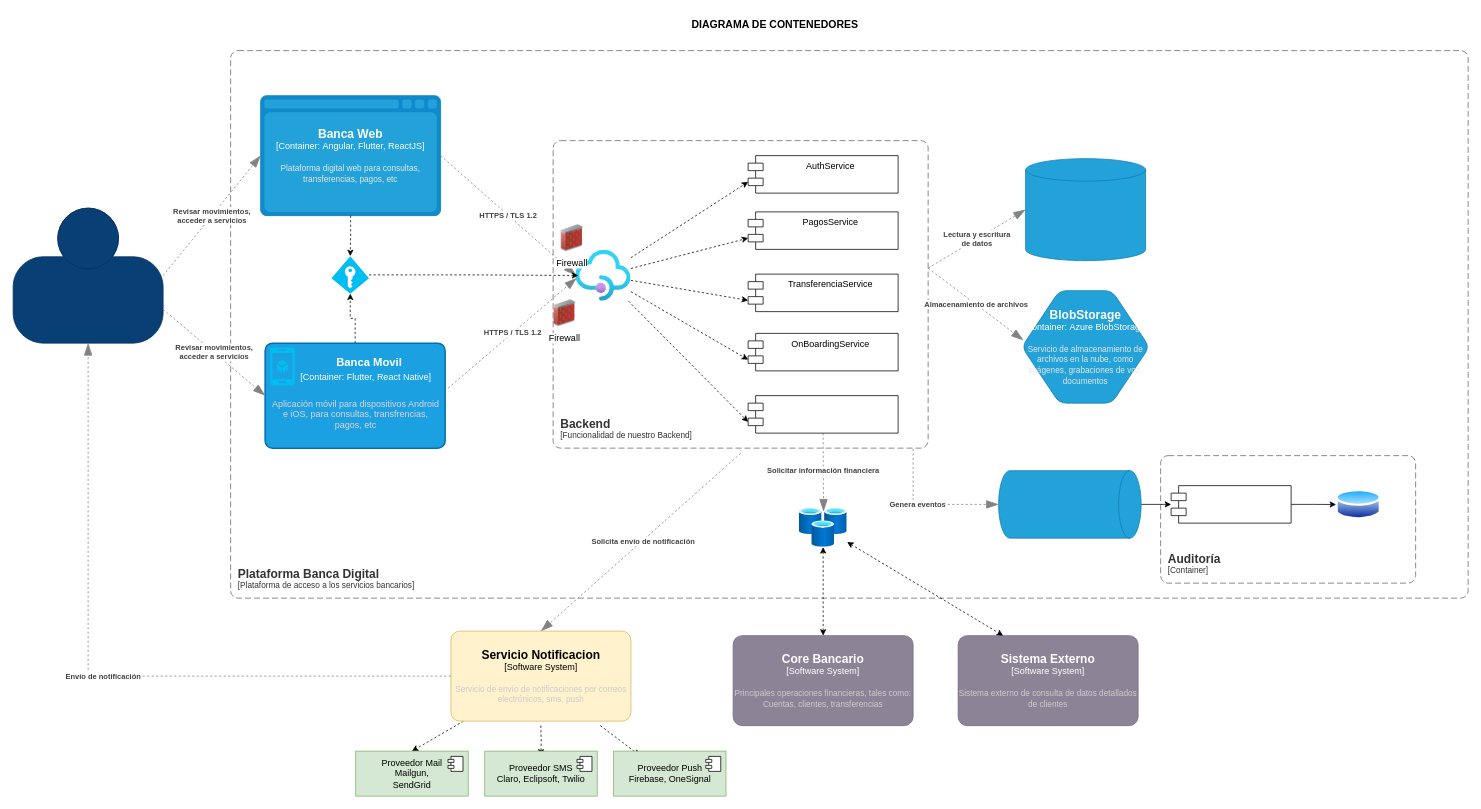
Some shapes in this 1481 by 809 pixel diagram are drawn without their labels. The centre of each missing label's shape, as x and y in pixels:
"API Gateway" goes at [603,275].
"AuditoriaService" goes at [1230,504].
"Base de Datos [Container: SQL, PostgressSQL] Cliente, Cuenta, Operacion, Pago" goes at [1085,209].
"BDD Auditoria" goes at [1358,504].
"Bus de Eventos [Container: Apache Kafka] Registro y generación de Eventos" goes at [1069,504].
"Cliente Bancario [Person] Cliente que accede o utiliza los servicios bancarios" goes at [87,275].
"ClienteService" goes at [822,414].
"Proveedor OAuth2" goes at [350,274].
"Redis Caché" goes at [823,527].
